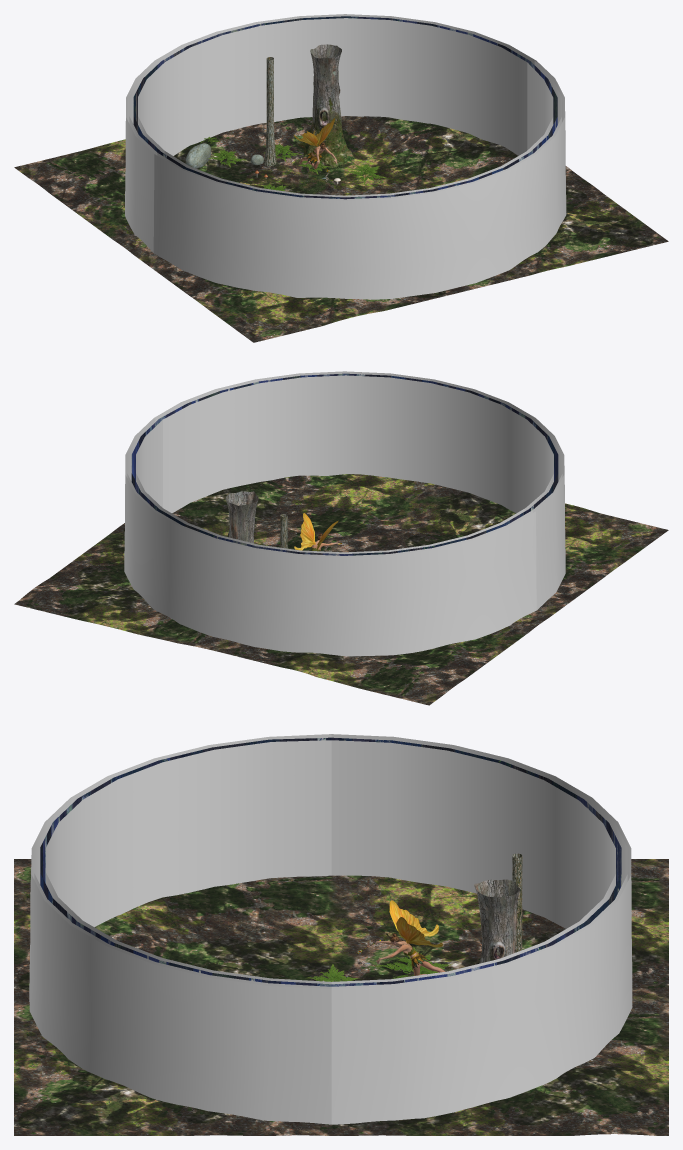
3 views of the same model, one above another, from view 1: azimuth 30°, elevation 25°; view 2: azimuth 150°, elevation 25°; view 3: azimuth 270°, elevation 25° (orthographic). The views are drawn at different scales.
Visible parts, largest first — view 1: TilingTerrain, SkyCentre_Wallsback, SkyRight_Wallsback, Weather_Right, Weather_Centre, Trunk, SkyLeft, SkyLeft_Wallsback, Weather_Left, Weather_Left_Wallsback, Tree, Cloud_Right (+8 smaller); view 2: TilingTerrain, SkyLeft, SkyCentre, Weather_Centre_Wallsback, Weather_Left_Wallsback, SkyRight_Wallsback, SkyRight, Weather_Right, Weather_Right_Wallsback, Trunk, Cloud_Left, Wing3out (+9 smaller); view 3: TilingTerrain, SkyLeft_Wallsback, SkyRight, Weather_Right_Wallsback, Weather_Left, SkyCentre_Wallsback, SkyCentre, Weather_Centre, Weather_Centre_Wallsback, Trunk, Cloud_Right_Wallsback, Cloud_Left (+13 smaller).
Part boxes in pixels (left/top/right/bottom): TilingTerrain: left=14, top=116, right=668, bottom=342; SkyCentre_Wallsback: left=345, top=154, right=537, bottom=299; SkyRight_Wallsback: left=153, top=154, right=345, bottom=298; Weather_Right: left=346, top=18, right=527, bottom=155; Weather_Centre: left=164, top=18, right=345, bottom=155; Trunk: left=297, top=44, right=354, bottom=167; SkyLeft: left=125, top=61, right=154, bottom=252; SkyLeft_Wallsback: left=536, top=61, right=566, bottom=251; Weather_Left: left=138, top=63, right=164, bottom=153; Weather_Left_Wallsback: left=526, top=62, right=553, bottom=153; Tree: left=264, top=57, right=276, bottom=165; Cloud_Right: left=346, top=14, right=534, bottom=64; TilingTerrain: left=14, top=474, right=668, bottom=705; SkyLeft: left=345, top=511, right=536, bottom=656; SkyCentre: left=153, top=511, right=344, bottom=656; Weather_Centre_Wallsback: left=346, top=375, right=526, bottom=513; Weather_Left_Wallsback: left=163, top=375, right=345, bottom=513; SkyRight_Wallsback: left=536, top=418, right=565, bottom=609; SkyRight: left=124, top=418, right=153, bottom=608; Weather_Right: left=136, top=420, right=162, bottom=510; Weather_Right_Wallsback: left=525, top=420, right=553, bottom=510; Trunk: left=225, top=491, right=258, bottom=543; Cloud_Left: left=344, top=510, right=532, bottom=557; Wing3out: left=294, top=513, right=338, bottom=550; TilingTerrain: left=14, top=859, right=668, bottom=1135; SkyLeft_Wallsback: left=68, top=925, right=331, bottom=1124; SkyRight: left=331, top=925, right=593, bottom=1124; Weather_Right_Wallsback: left=82, top=740, right=331, bottom=927; Weather_Left: left=331, top=740, right=579, bottom=928; SkyCentre_Wallsback: left=29, top=798, right=70, bottom=1058; SkyCentre: left=592, top=798, right=632, bottom=1057; Weather_Centre: left=579, top=801, right=615, bottom=925; Weather_Centre_Wallsback: left=46, top=800, right=82, bottom=924; Trunk: left=474, top=879, right=520, bottom=963; Cloud_Right_Wallsback: left=72, top=735, right=331, bottom=802; Cloud_Left: left=331, top=735, right=589, bottom=803.
Size of the model in its own units: 6.27 by 1.6 by 6.27.
